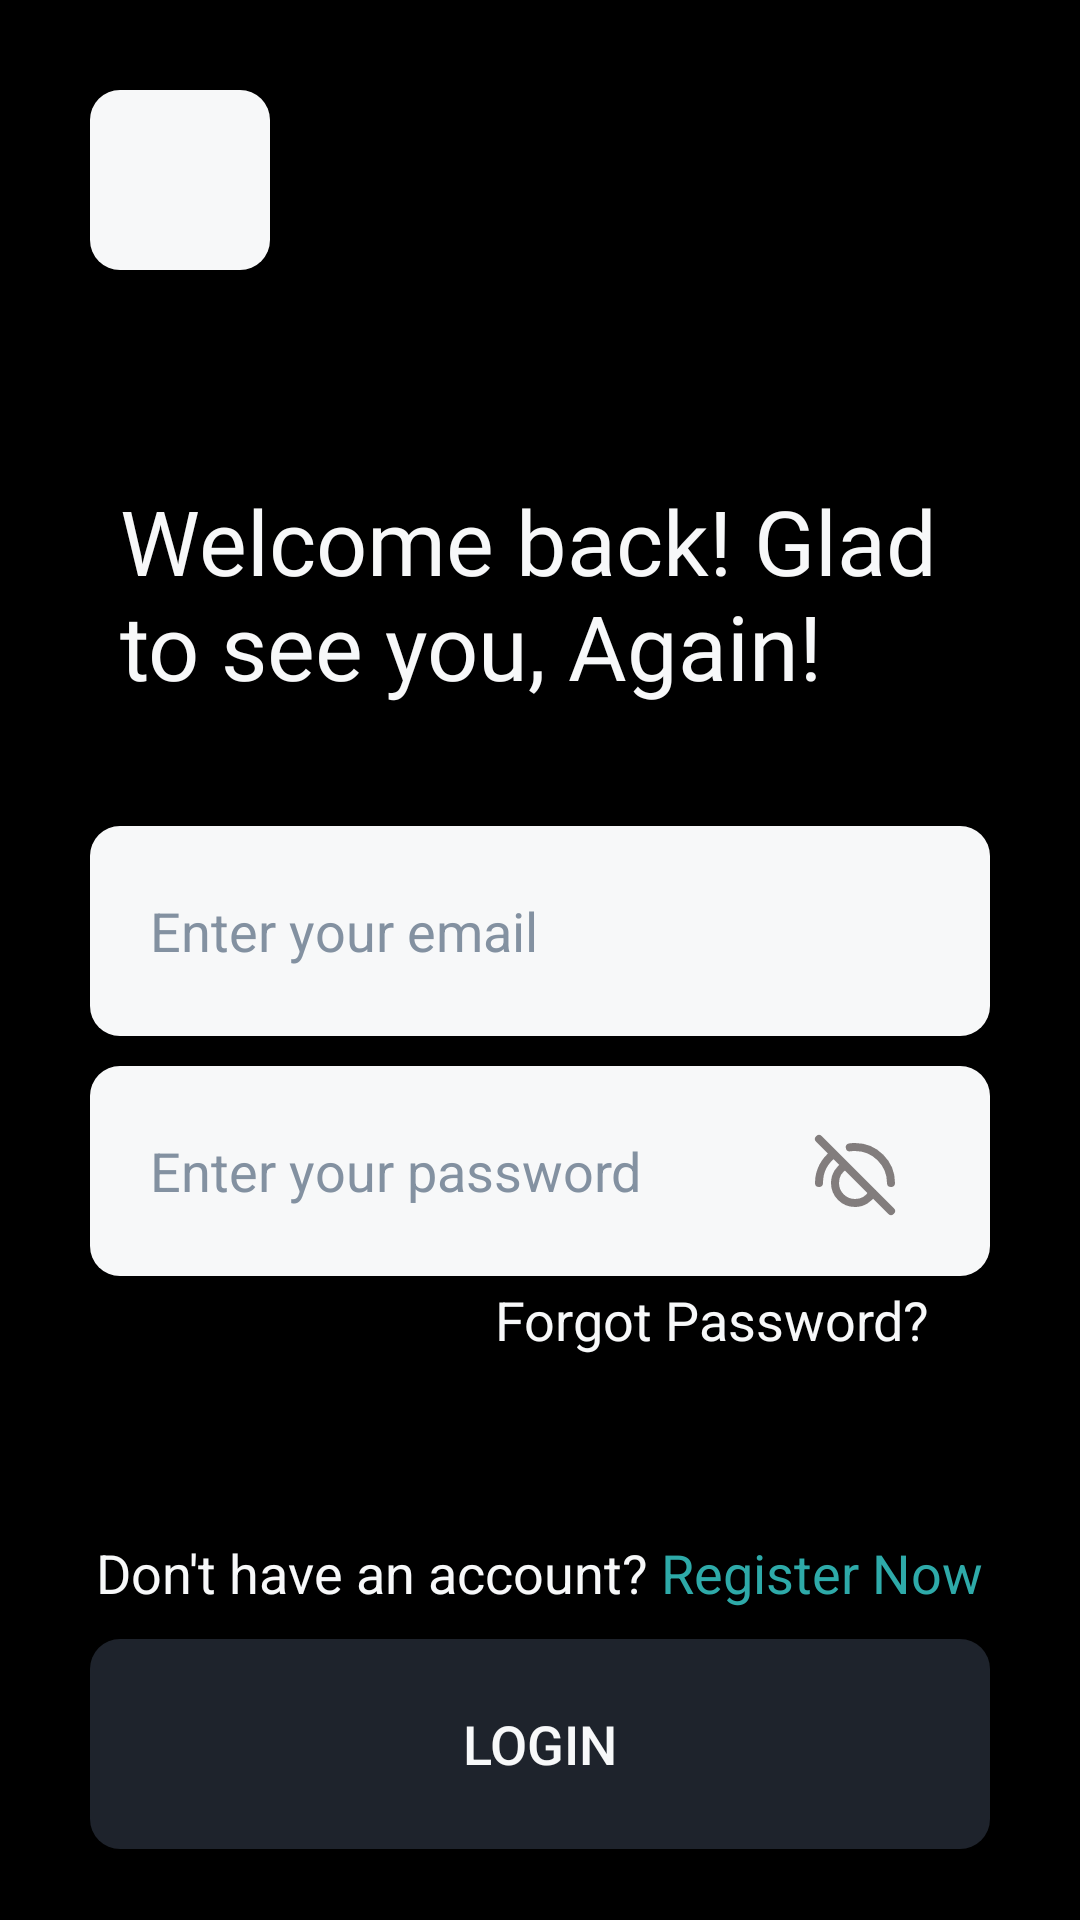

Locate icon controls on the screen. Image size 1080×1920, boxes as (x1, y1, x2, y2).
password off: (815, 1135, 895, 1215)
